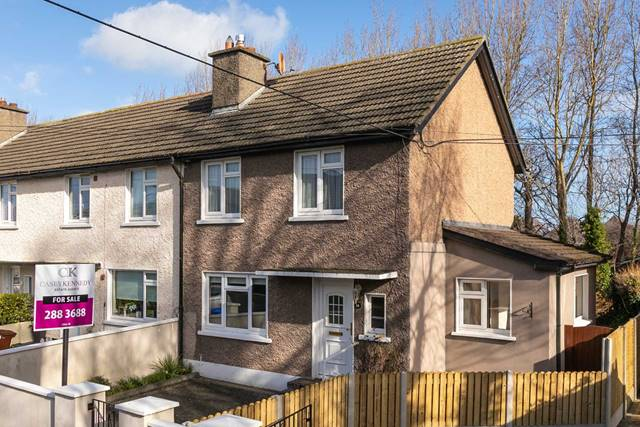property sign: (27, 259, 107, 341)
